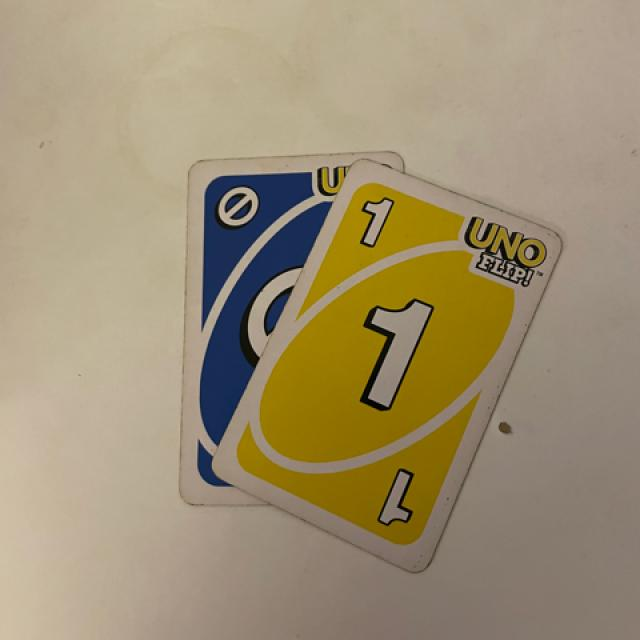lblueskip-20: (200, 174, 270, 247)
lyellow-1: (348, 182, 406, 264)
